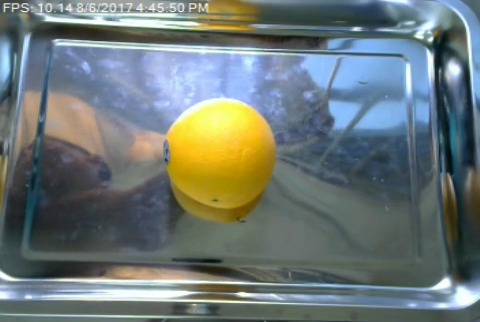Orange: (162, 96, 279, 207)
